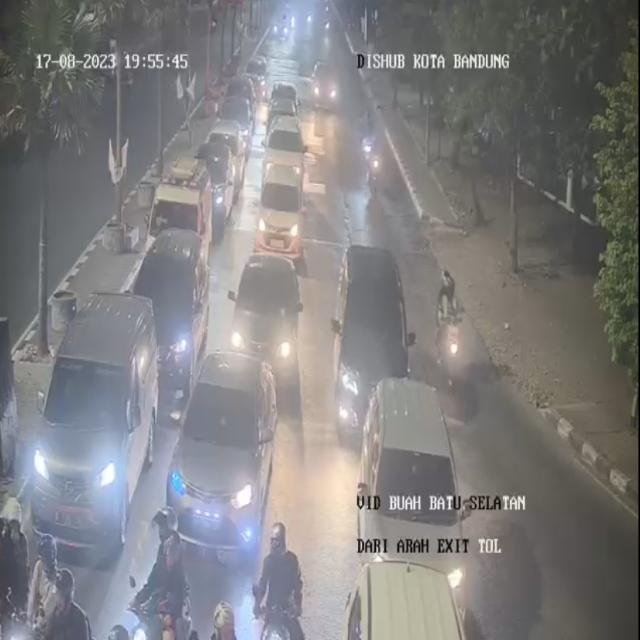cars: (29, 288, 156, 551), (359, 375, 475, 640), (172, 347, 286, 558), (329, 240, 410, 453), (130, 232, 208, 384), (231, 250, 307, 386), (256, 166, 304, 266), (196, 127, 238, 225), (264, 111, 305, 186), (222, 91, 257, 155), (310, 60, 341, 114), (265, 84, 298, 130)
motorcycle: (144, 498, 195, 638), (252, 514, 306, 638), (432, 264, 469, 386), (0, 500, 29, 637), (44, 561, 91, 640), (205, 596, 242, 640), (357, 110, 379, 176), (0, 579, 21, 640), (100, 617, 146, 640)
truck: (150, 157, 218, 280)
